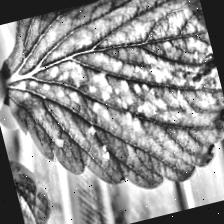Angular Leafspot: (6, 6, 224, 208)
